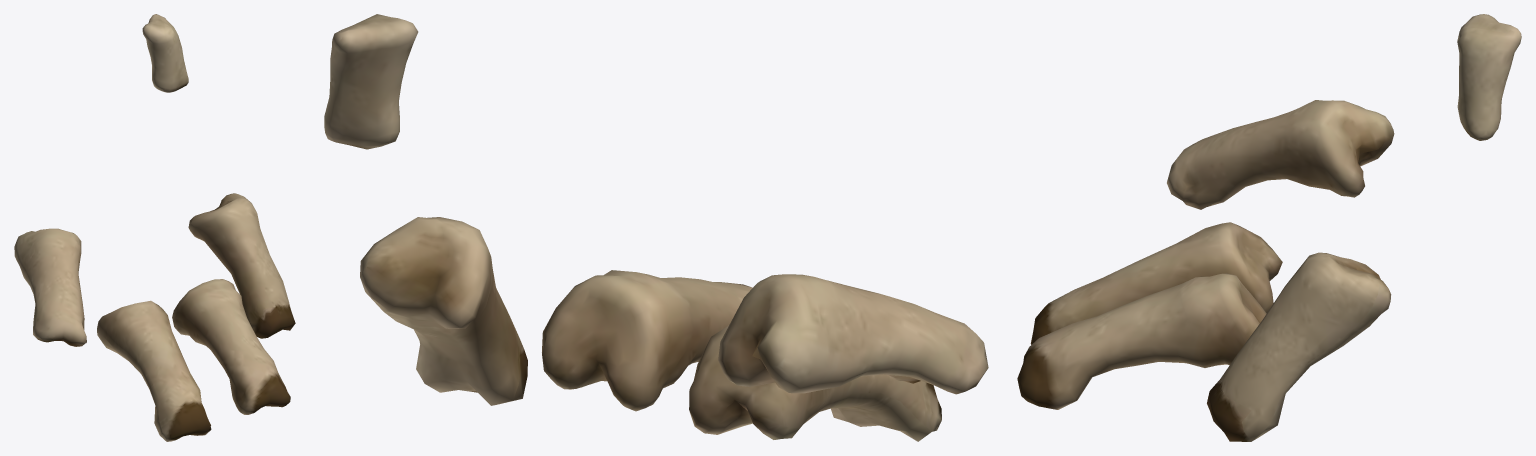
File: Proximal_Phalanges.glb
The picture shows the model from 3 angles, left to right: view 1: azimuth 30°, elevation 25°; view 2: azimuth 150°, elevation 25°; view 3: azimuth 270°, elevation 25°; orthographic projection. The views are drawn at different scales.
Visible parts, largest first — view 1: polySurface30, polySurface29, polySurface28, polySurface31, polySurface27; view 2: polySurface31, polySurface28, polySurface29, polySurface30, polySurface27; view 3: polySurface29, polySurface28, polySurface31, polySurface30, polySurface27.
Boxes of the visible parts, left/top/right/bottom form: polySurface30: left=97, top=300, right=211, bottom=441; polySurface29: left=172, top=279, right=290, bottom=414; polySurface28: left=188, top=193, right=295, bottom=338; polySurface31: left=14, top=228, right=86, bottom=346; polySurface27: left=142, top=14, right=188, bottom=92; polySurface31: left=718, top=274, right=988, bottom=394; polySurface28: left=360, top=217, right=527, bottom=405; polySurface29: left=542, top=270, right=752, bottom=411; polySurface30: left=689, top=325, right=941, bottom=441; polySurface27: left=324, top=14, right=418, bottom=149; polySurface29: left=1017, top=273, right=1266, bottom=409; polySurface28: left=1207, top=252, right=1391, bottom=441; polySurface31: left=1167, top=100, right=1394, bottom=209; polySurface30: left=1030, top=222, right=1282, bottom=344; polySurface27: left=1457, top=14, right=1521, bottom=140.
Size of the model in its own units: 43.63 by 44.26 by 47.67.
1 material, 1 textured.
